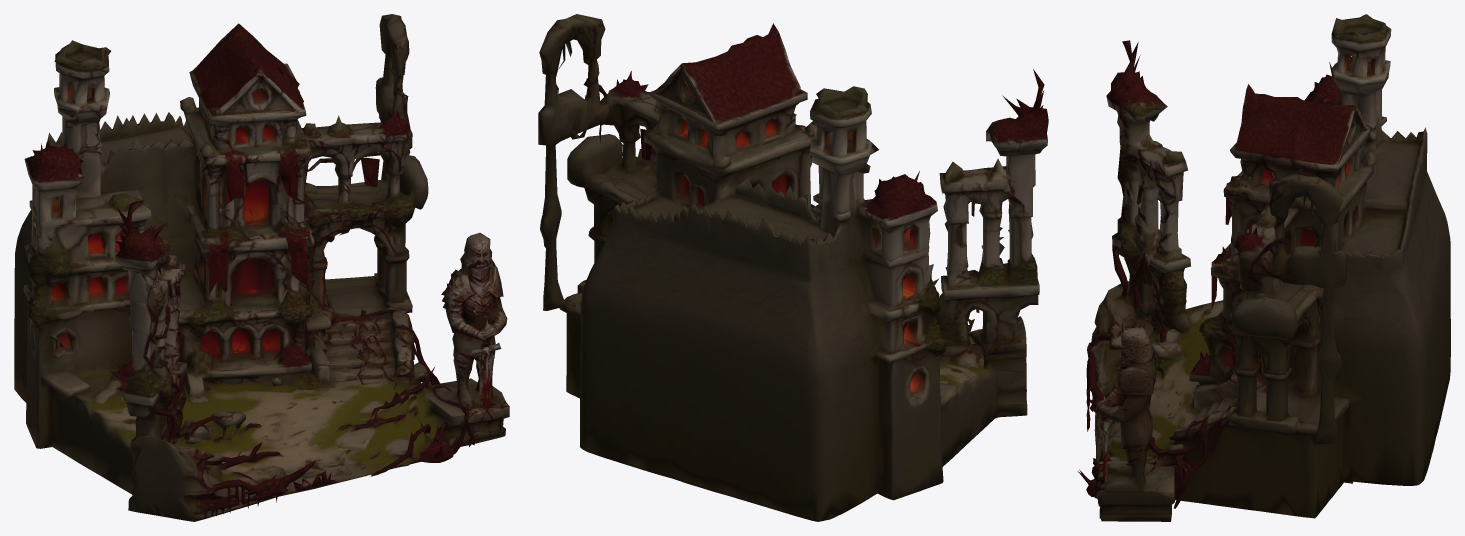
The model's file is environment-01.glb.
3 renders of one model, left to right at view 1: azimuth 30°, elevation 25°; view 2: azimuth 150°, elevation 25°; view 3: azimuth 270°, elevation 25°, orthographic. The views are drawn at different scales.
Parts seen in each view (by area): view 1: tripo_node_68e9f7dc-352f-4fae-8343-57b20a8f746c; view 2: tripo_node_68e9f7dc-352f-4fae-8343-57b20a8f746c; view 3: tripo_node_68e9f7dc-352f-4fae-8343-57b20a8f746c.
Boxes of the visible parts, x1,y1,x2,y2 form: tripo_node_68e9f7dc-352f-4fae-8343-57b20a8f746c: (14,14,509,521); tripo_node_68e9f7dc-352f-4fae-8343-57b20a8f746c: (538,14,1048,521); tripo_node_68e9f7dc-352f-4fae-8343-57b20a8f746c: (1078,14,1450,521).
Size of the model in its own units: 1 by 0.9207 by 0.8594.
Materials: 1 (1 with a texture image).
